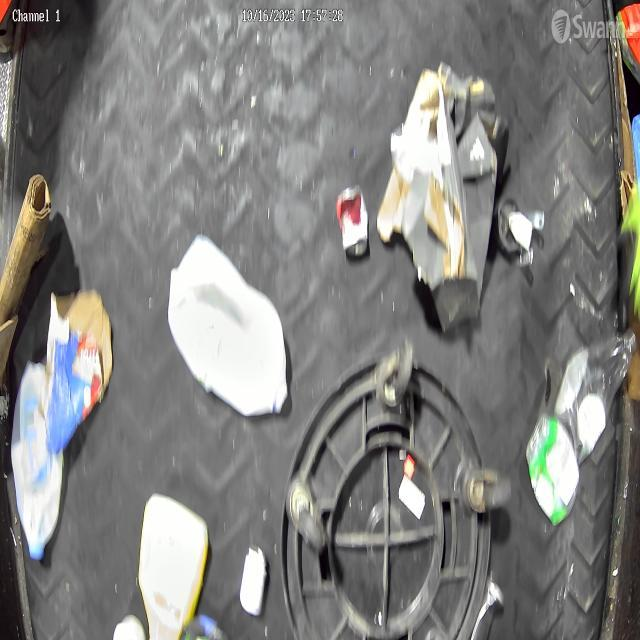can: (526, 412, 580, 527), (336, 184, 368, 256), (238, 543, 266, 617)
milk_jug: (168, 233, 288, 418), (137, 492, 209, 640), (11, 360, 64, 560)
plastic_bottle: (554, 330, 638, 466)
